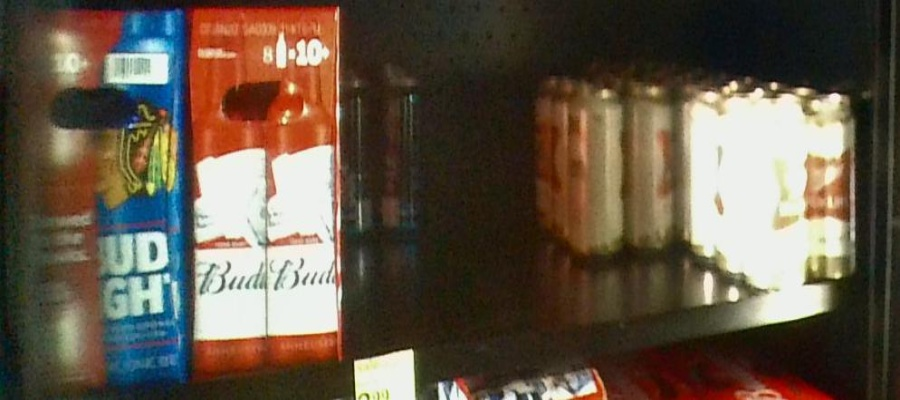bottle: (1, 7, 190, 385), (193, 5, 346, 366), (751, 97, 856, 290), (570, 87, 673, 253), (340, 65, 427, 237)
